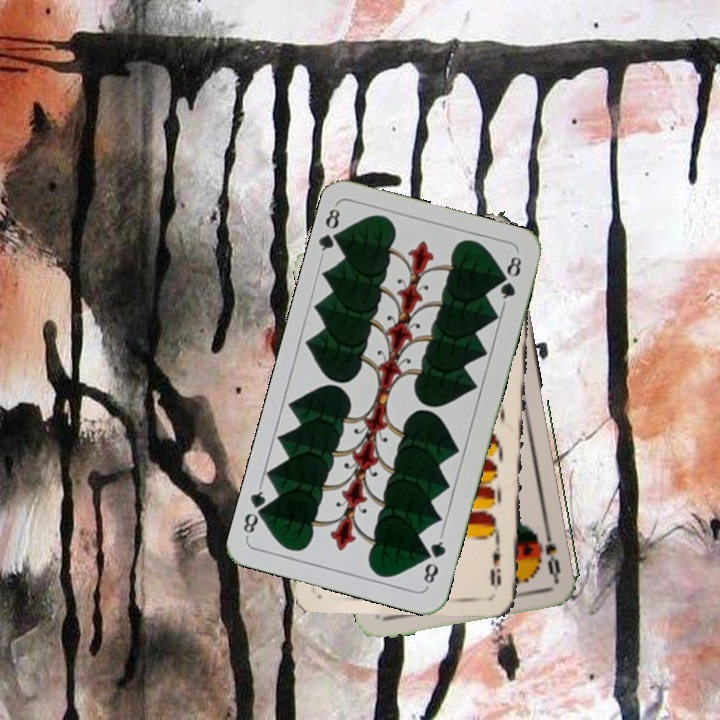E9: (487, 534, 503, 592)
G8: (315, 201, 347, 260), (419, 531, 449, 589)
SO: (537, 523, 563, 582)
